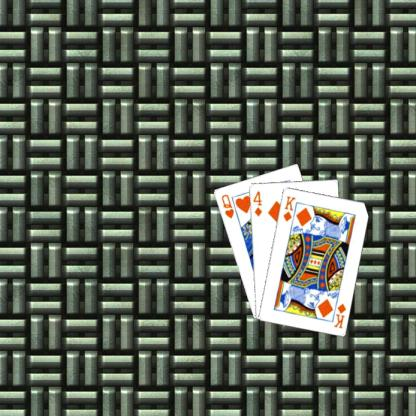4D: (251, 188, 263, 217)
KD: (280, 193, 297, 223), (331, 300, 347, 330)
QH: (219, 192, 235, 220)
